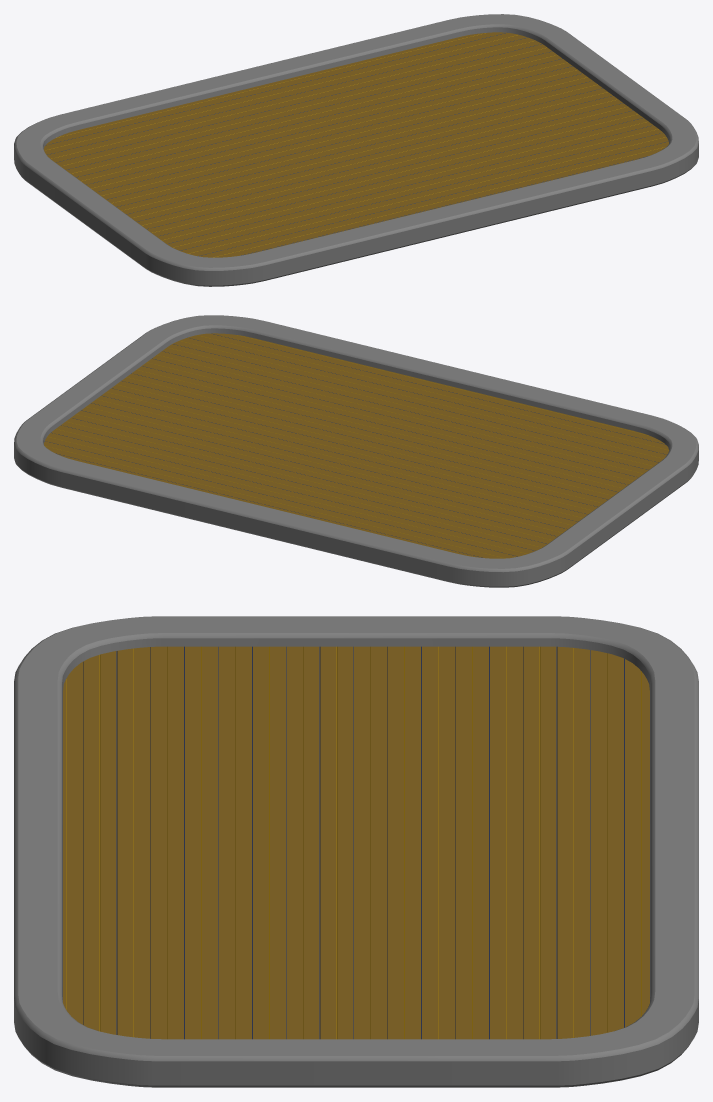
File: SM_BuildingMK2_Roof.fbx
The picture shows the model from 3 angles, top to bottom: view 1: azimuth 30°, elevation 25°; view 2: azimuth 150°, elevation 25°; view 3: azimuth 270°, elevation 25°; orthographic projection. The views are drawn at different scales.
Parts seen in each view (by area): view 1: Roof; view 2: Roof; view 3: Roof.
Part boxes in pixels (x1,y1,x2,y2): Roof: [14, 14, 698, 286]; Roof: [14, 315, 698, 587]; Roof: [14, 616, 698, 1087].
Bounding box in the file's own units: 2094 × 70 × 1368.
